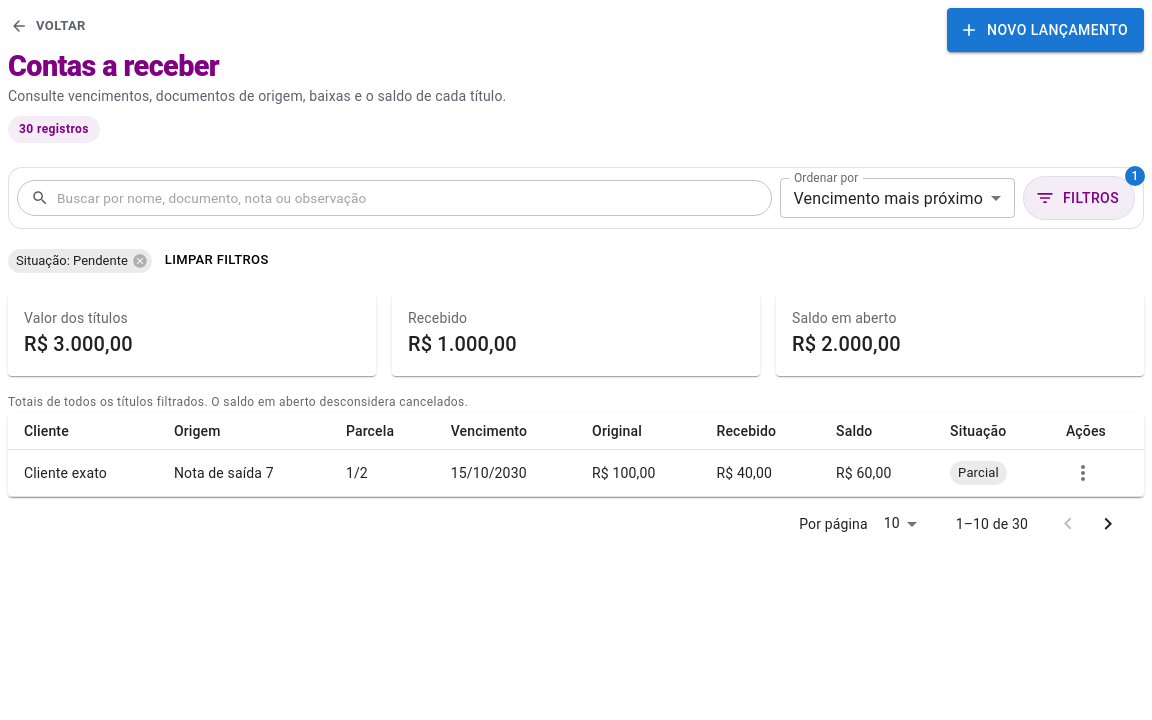
Test case: Financeiro operacional › novo título a receber abre em página e mantém a lista ao voltar
The image size is (1152, 720).
Click the button "Novo lançamento" at point(1046, 30), box left=947, top=8, right=1144, bottom=52
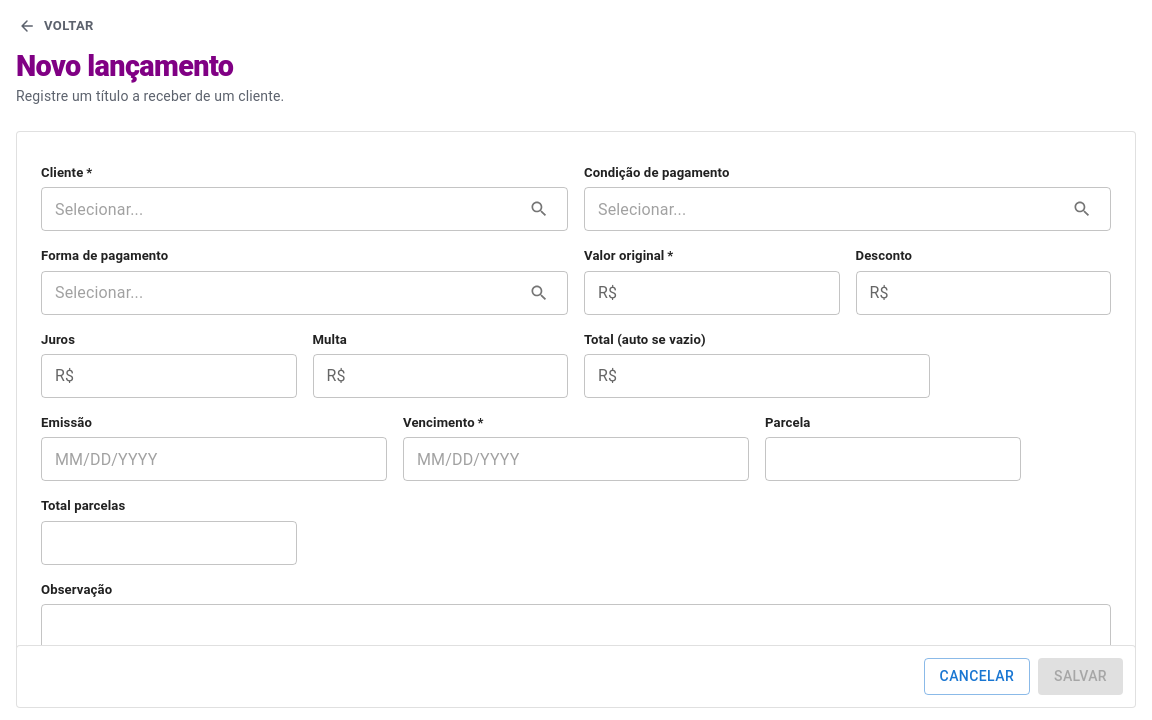
expect the heading "Novo lançamento" is shown: met, box left=16, top=49, right=233, bottom=83
expect the button "Salvar" is disabled: met, box left=1038, top=658, right=1123, bottom=695
Type "10" into the number field labelled "Valor original *" at point(732, 293), box left=625, top=273, right=840, bottom=313
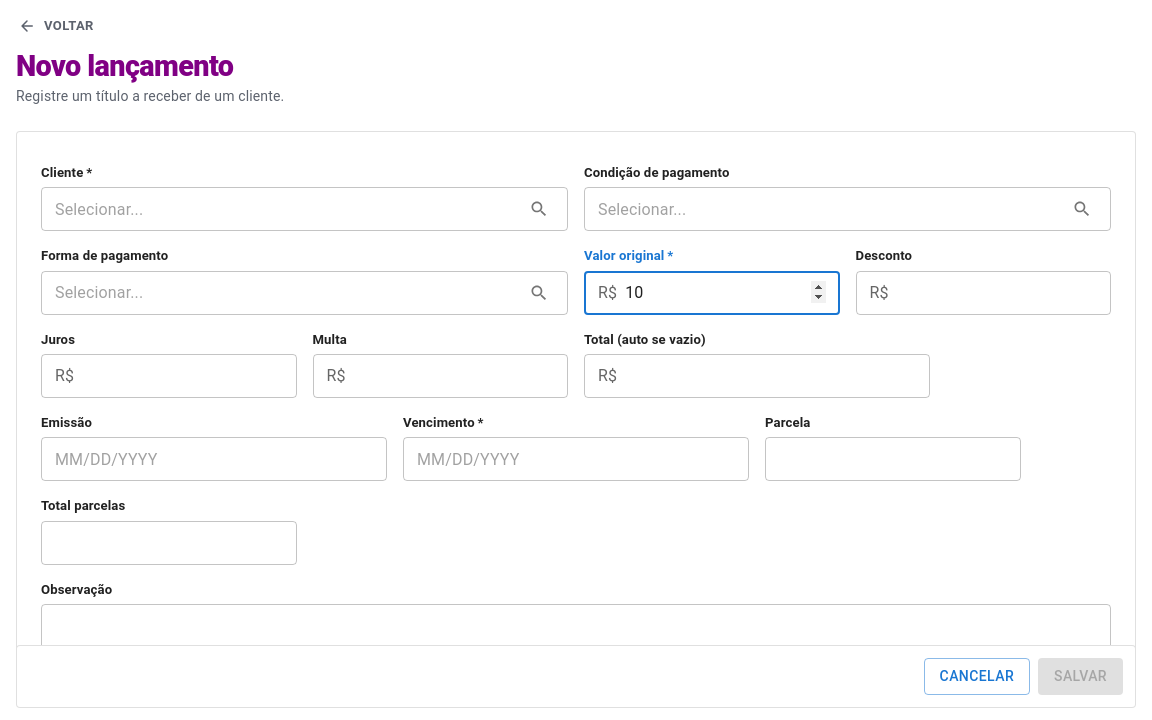
Click the button "Voltar" at point(57, 26), box left=16, top=8, right=98, bottom=44
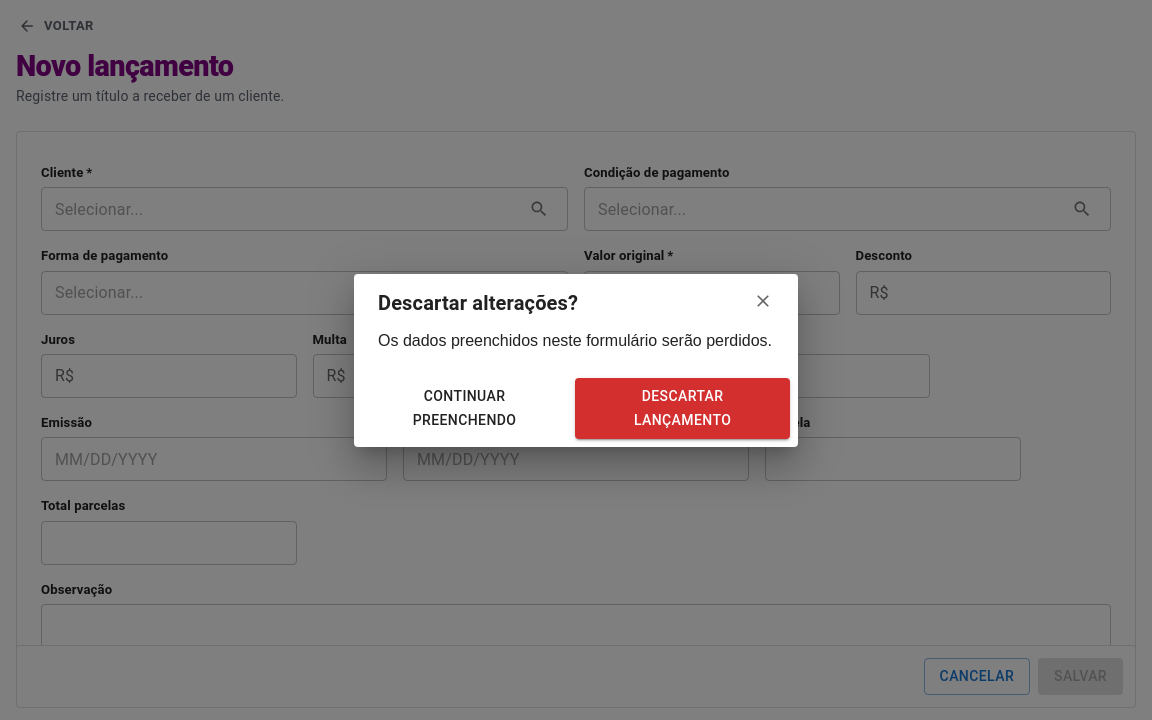
Click the button "Descartar lançamento" at point(683, 408), box left=575, top=378, right=790, bottom=438
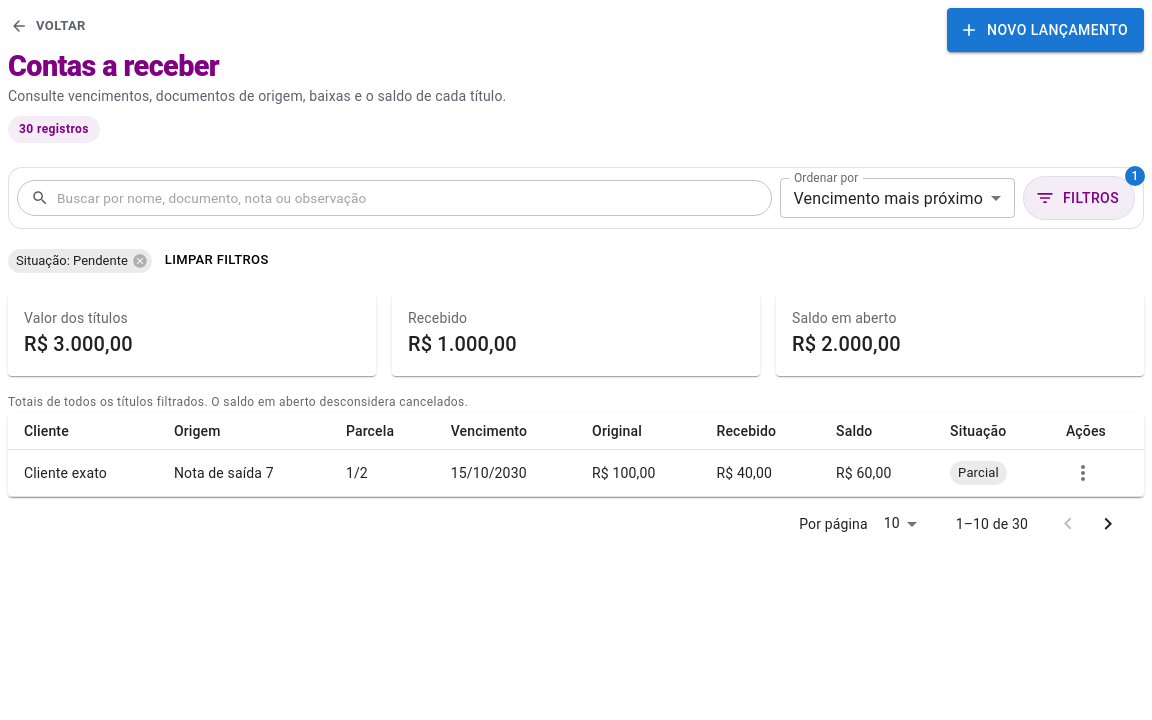
expect the heading "Contas a receber" is shown: met, box left=8, top=49, right=219, bottom=83
